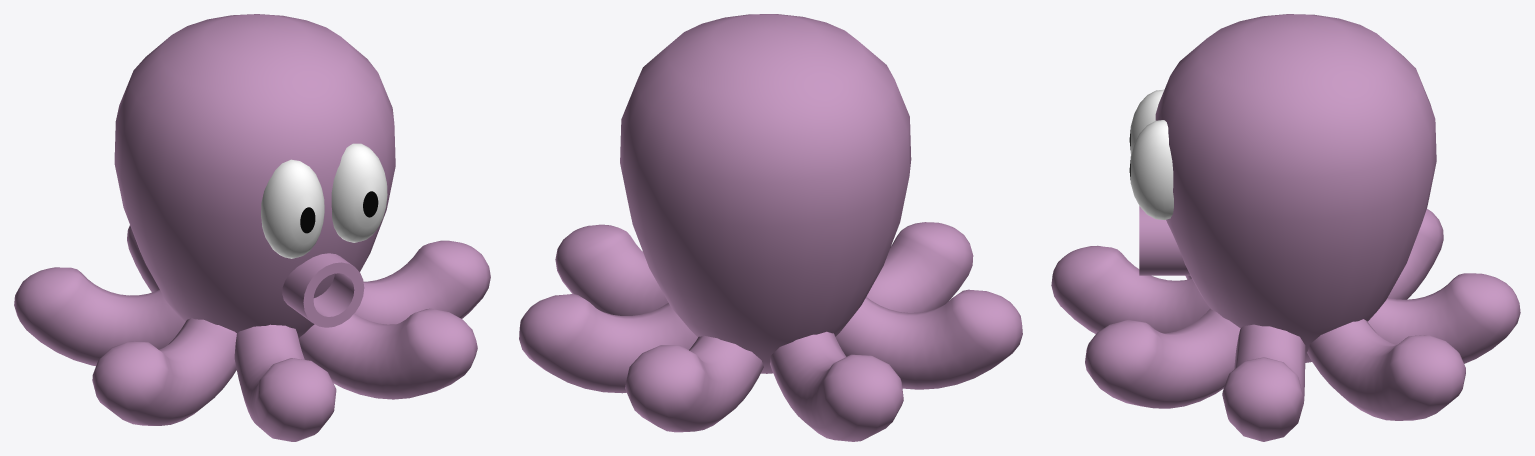
File: octopus_pink.FBX
The picture shows the model from 3 angles, left to right: view 1: azimuth 30°, elevation 25°; view 2: azimuth 150°, elevation 25°; view 3: azimuth 270°, elevation 25°; orthographic projection. The views are drawn at different scales.
Parts seen in each view (by area): view 1: Sphere01, Capsule04, Capsule06, Capsule07, Capsule05, Capsule03, Sphere02, Sphere03, Tube01, Capsule02; view 2: Sphere01, Capsule06, Capsule01, Capsule07, Capsule02, Capsule03, Capsule05; view 3: Sphere01, Capsule04, Capsule01, Capsule05, Capsule02, Capsule03, Sphere03, Tube01, Capsule07, Sphere02.
Boxes of the visible parts, left/top/right/bottom form: Sphere01: left=114, top=14, right=395, bottom=338; Capsule04: left=299, top=308, right=477, bottom=399; Capsule06: left=92, top=318, right=236, bottom=425; Capsule07: left=14, top=267, right=184, bottom=365; Capsule05: left=234, top=324, right=336, bottom=441; Capsule03: left=354, top=240, right=490, bottom=324; Sphere02: left=261, top=159, right=324, bottom=258; Sphere03: left=331, top=143, right=387, bottom=242; Tube01: left=282, top=253, right=364, bottom=327; Capsule02: left=127, top=225, right=159, bottom=292; Sphere01: left=620, top=14, right=911, bottom=373; Capsule06: left=835, top=289, right=1022, bottom=389; Capsule01: left=519, top=294, right=697, bottom=393; Capsule07: left=770, top=331, right=903, bottom=441; Capsule02: left=625, top=335, right=763, bottom=432; Capsule03: left=555, top=224, right=668, bottom=315; Capsule05: left=866, top=222, right=973, bottom=312; Sphere01: left=1155, top=14, right=1436, bottom=362; Capsule04: left=1085, top=308, right=1240, bottom=408; Capsule01: left=1307, top=319, right=1465, bottom=420; Capsule05: left=1051, top=245, right=1209, bottom=333; Capsule02: left=1368, top=273, right=1520, bottom=363; Capsule03: left=1222, top=324, right=1305, bottom=441; Sphere03: left=1129, top=120, right=1173, bottom=219; Tube01: left=1139, top=206, right=1190, bottom=275; Capsule07: left=1388, top=209, right=1443, bottom=299; Sphere02: left=1129, top=89, right=1164, bottom=154.
Size of the model in its own units: 280 by 218 by 273.
